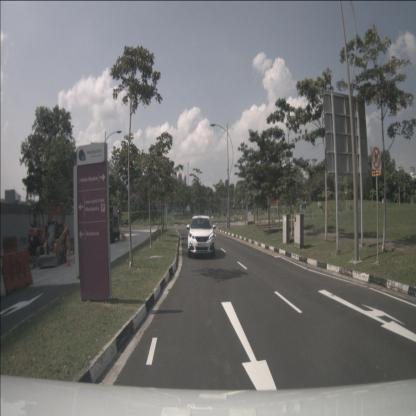movable_object-barrier: (2, 248, 32, 294), (3, 236, 18, 254)
movable_object-trafficcone: (65, 248, 71, 267), (121, 232, 124, 242), (124, 232, 127, 241), (122, 229, 124, 238)
vehicle-car: (188, 216, 215, 258)
vehicle-truck: (100, 205, 121, 243)
